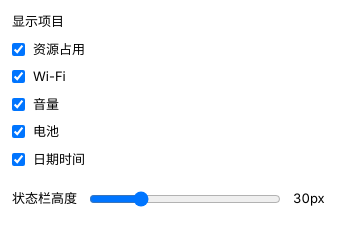
状态栏设置 › 高度调节写入 store 并回显当前值
Set the slider with test id "bar-height" to "34" at (229, 199), box x1=89 y1=191 x2=281 y2=207
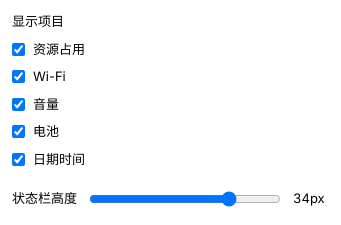
Now the text with test id "bar-height-value" reads "34px", box x1=293 y1=189 x2=325 y2=208
